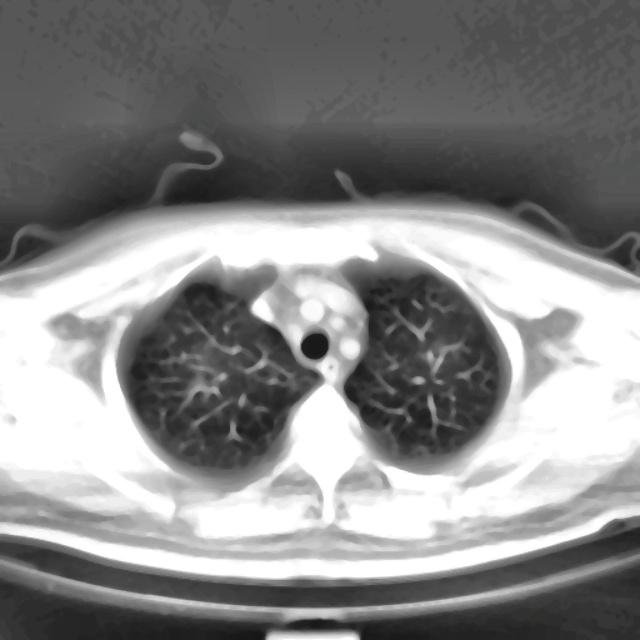covid: (1, 173, 638, 596)
